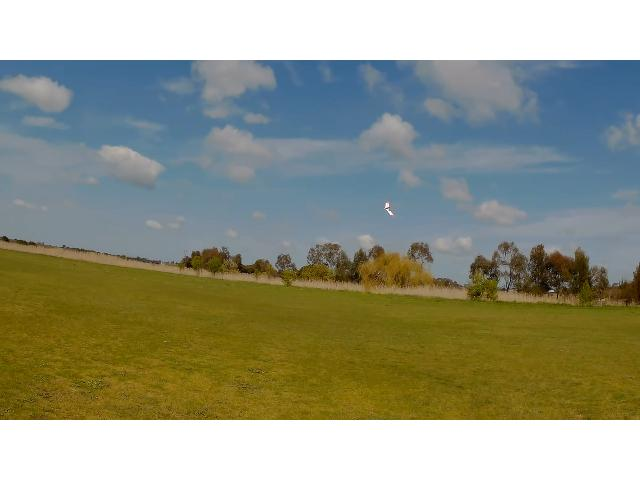Anti-Drone: (384, 201, 394, 215)
